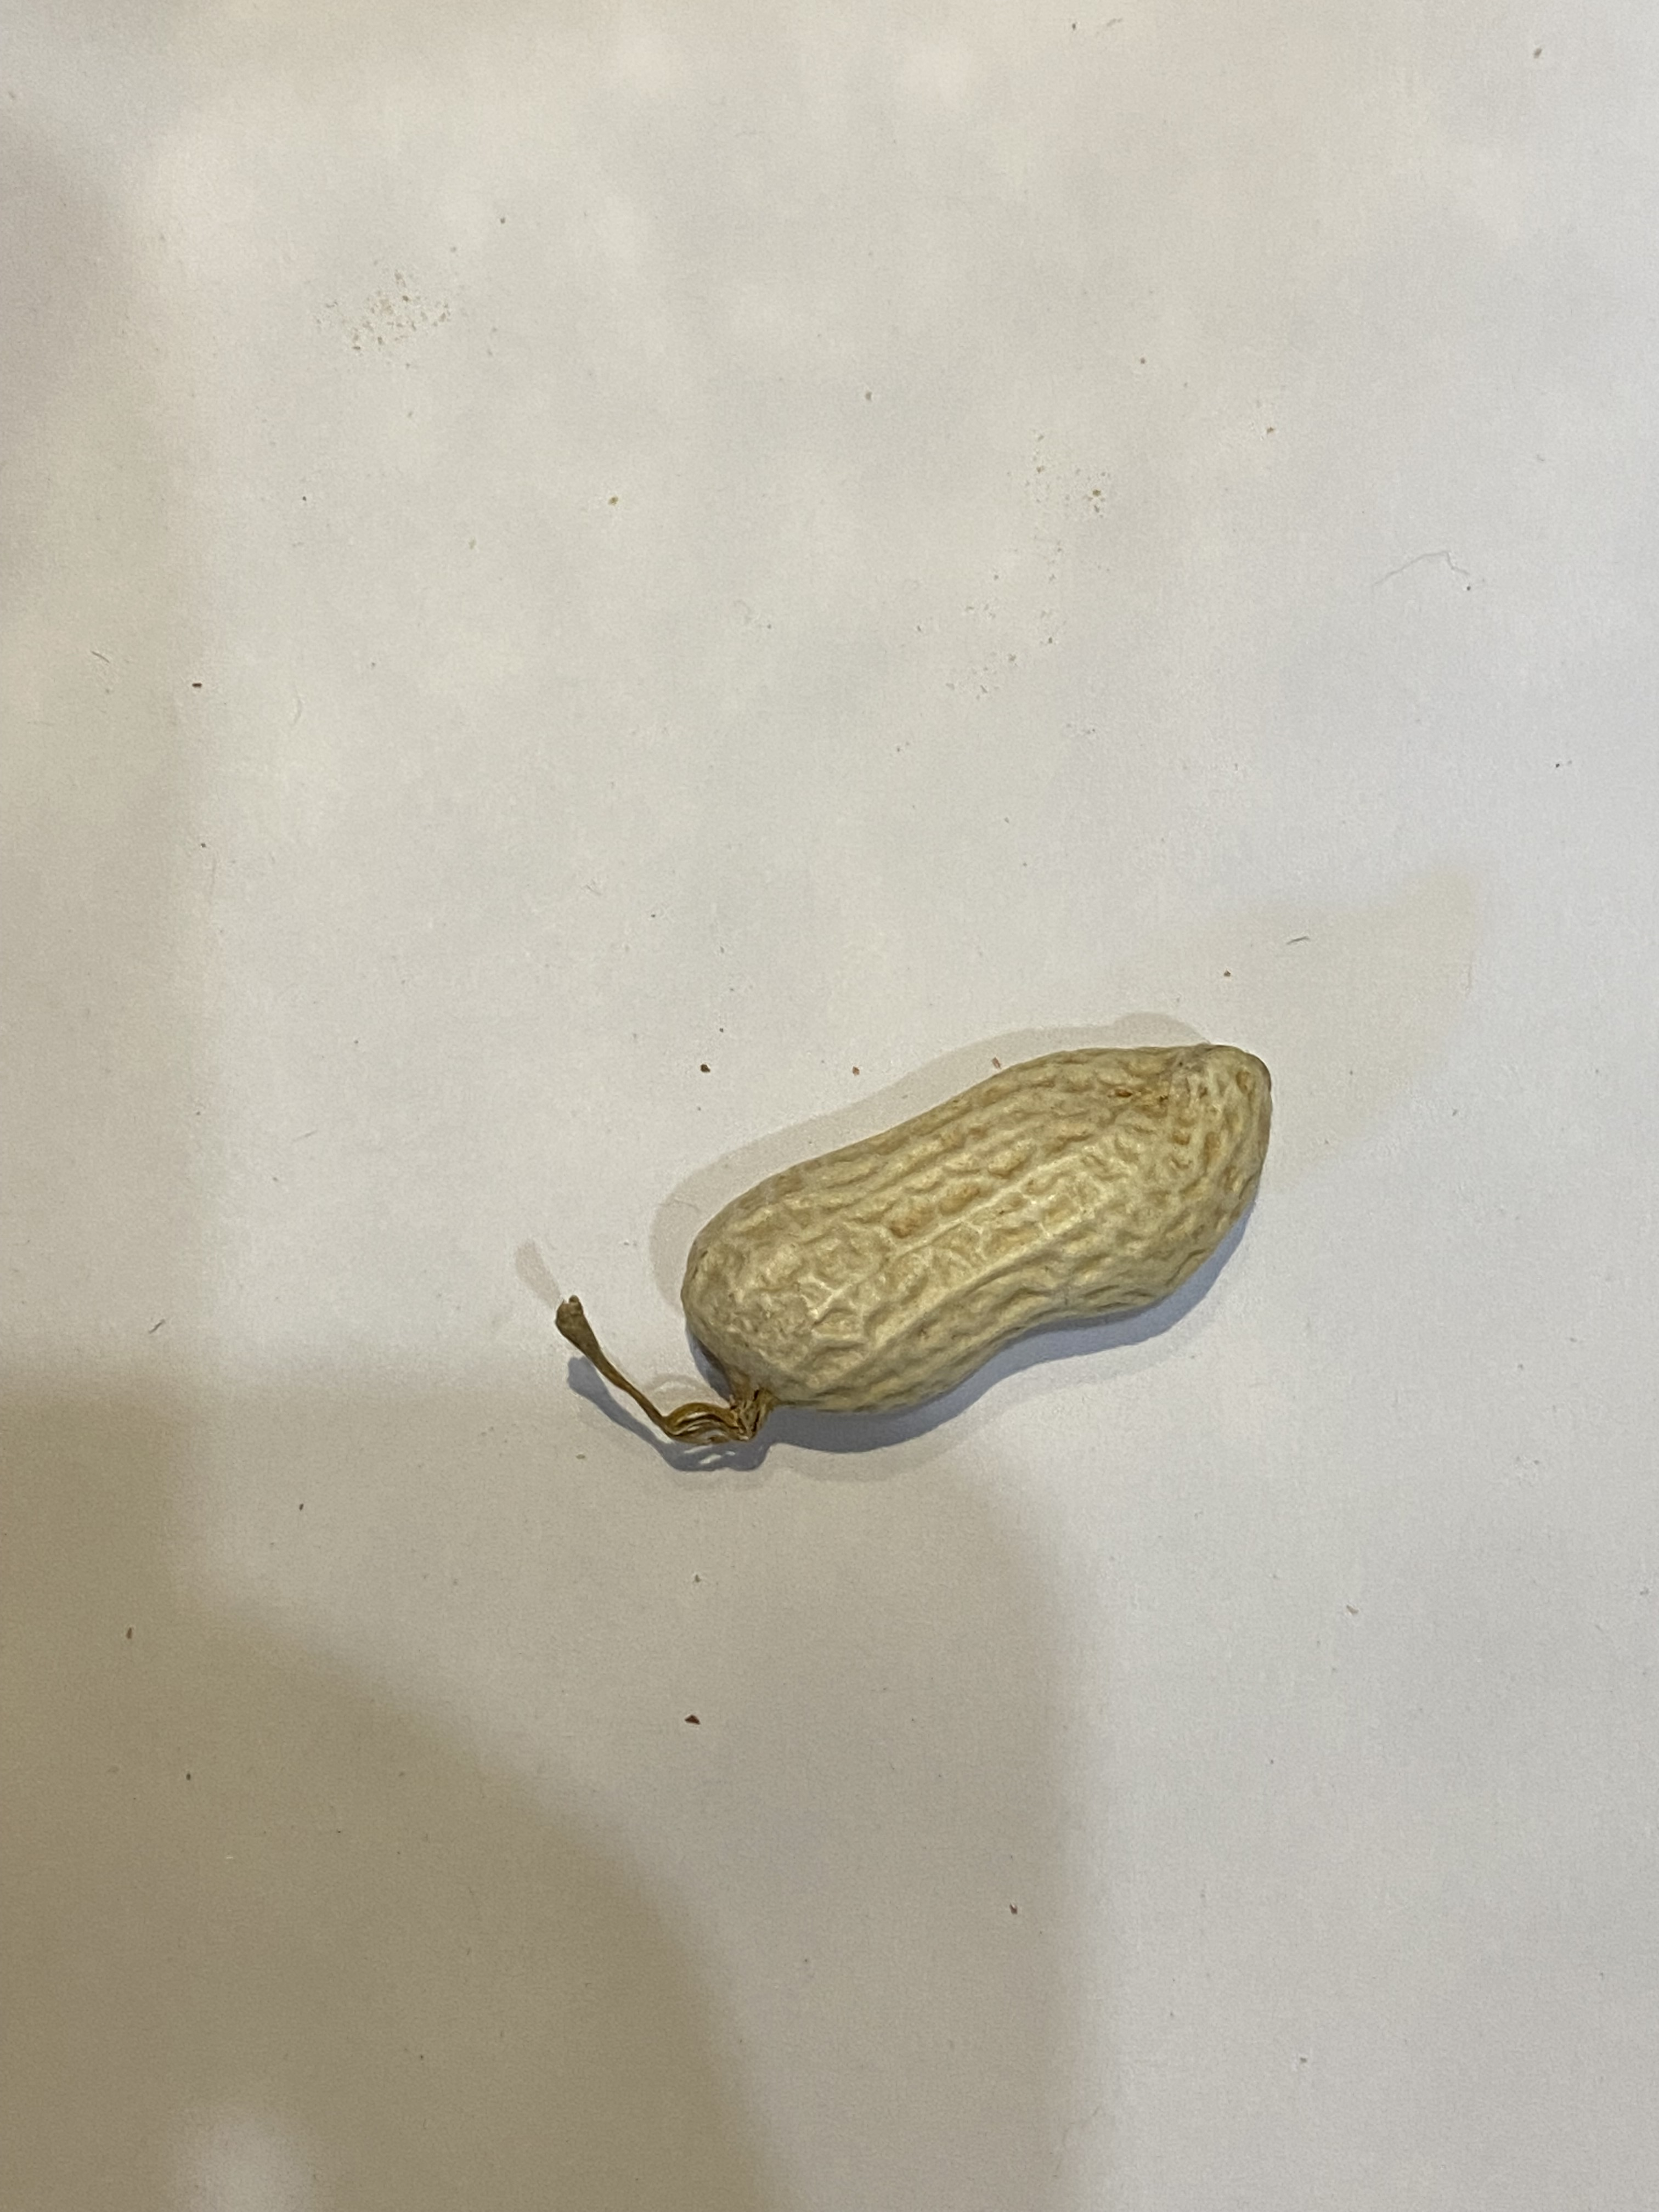kacang2: (669, 986, 1314, 1486)
